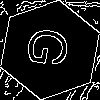G: (25, 25, 80, 72)
